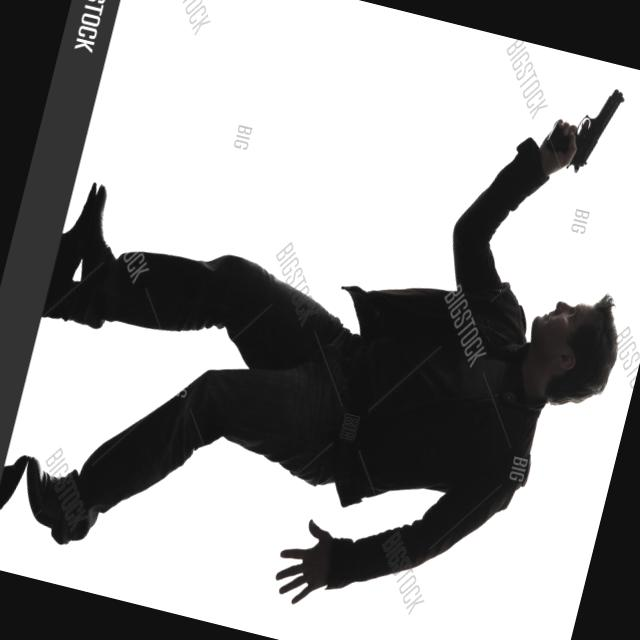handgun: (542, 72, 626, 180)
